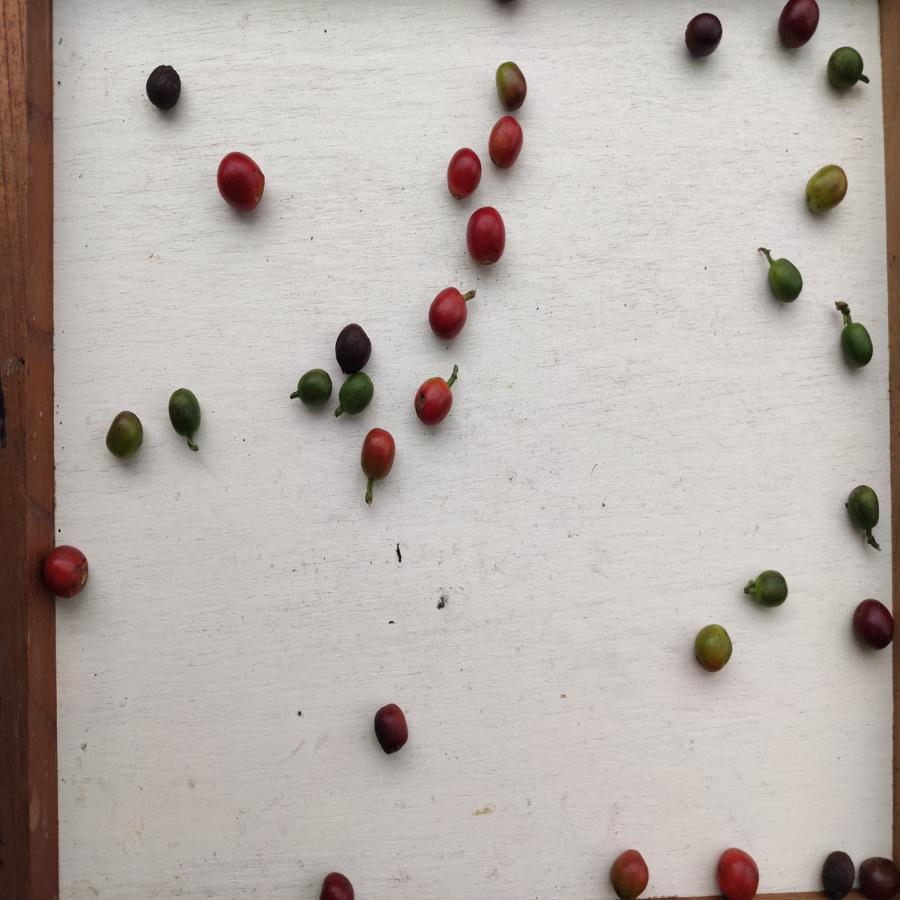Inmaduro: (843, 482, 882, 535), (767, 253, 803, 304), (838, 321, 875, 370), (750, 568, 790, 611), (166, 388, 201, 436), (826, 46, 865, 89), (293, 368, 332, 409), (336, 374, 375, 415)
Maduro: (217, 151, 268, 213), (41, 545, 91, 599), (715, 847, 761, 900), (467, 206, 506, 268), (426, 287, 469, 342), (485, 114, 525, 169), (444, 148, 483, 202), (413, 376, 451, 429), (359, 428, 396, 480)
Pinton: (801, 161, 850, 214), (693, 621, 734, 676), (609, 846, 650, 900), (491, 59, 529, 113), (106, 407, 144, 461)
Sobremaduro: (851, 594, 898, 654), (778, 1, 822, 49), (143, 64, 185, 114), (371, 703, 411, 755), (858, 852, 900, 900), (334, 322, 371, 373), (683, 11, 723, 58), (818, 848, 855, 897), (315, 872, 363, 900)
